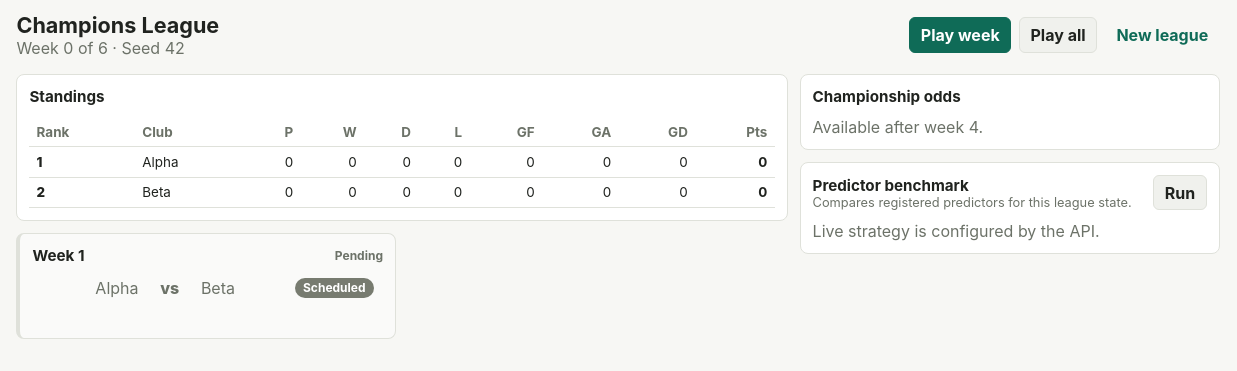
it: league workflow › plays a week, allows a manual correction, and benchmarks predictors for the visible league
Step 1. Click the button "Play week" → coordinates (960, 35), box [910,18,1011,53]
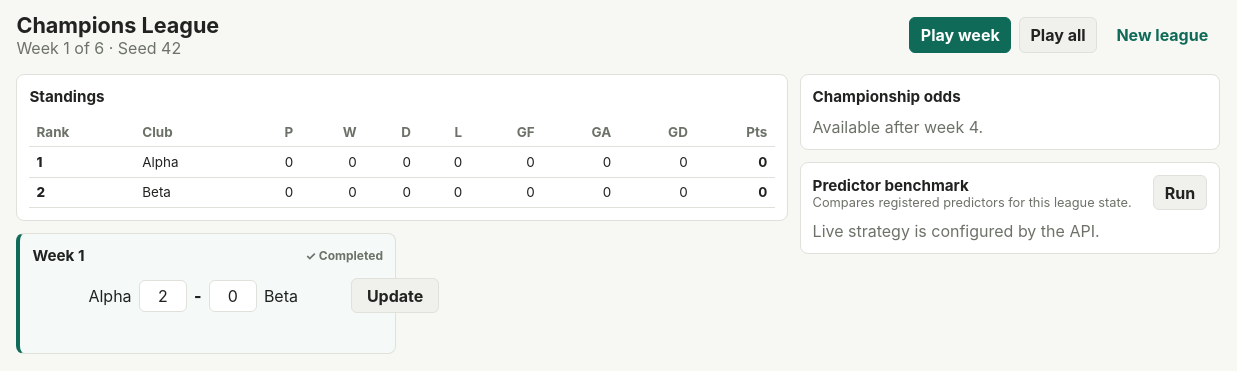
expect the text "Week 1 of 6" is shown: met, box [16,38,181,58]
Step 2. Replace the text in the number field titled "Alpha goals" with "3" → coordinates (163, 296), box [139,280,187,312]
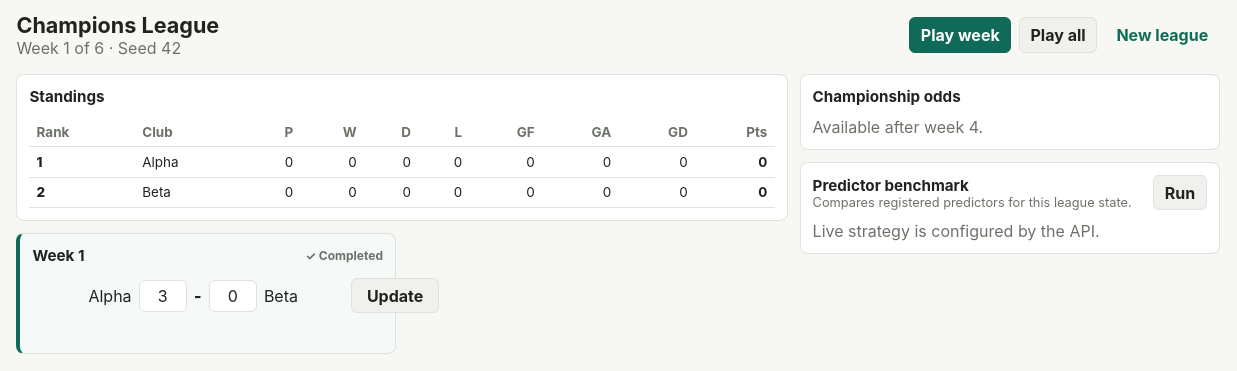
Step 3. Replace the text in the number field titled "Beta goals" with "1" → coordinates (233, 296), box [209,280,257,312]
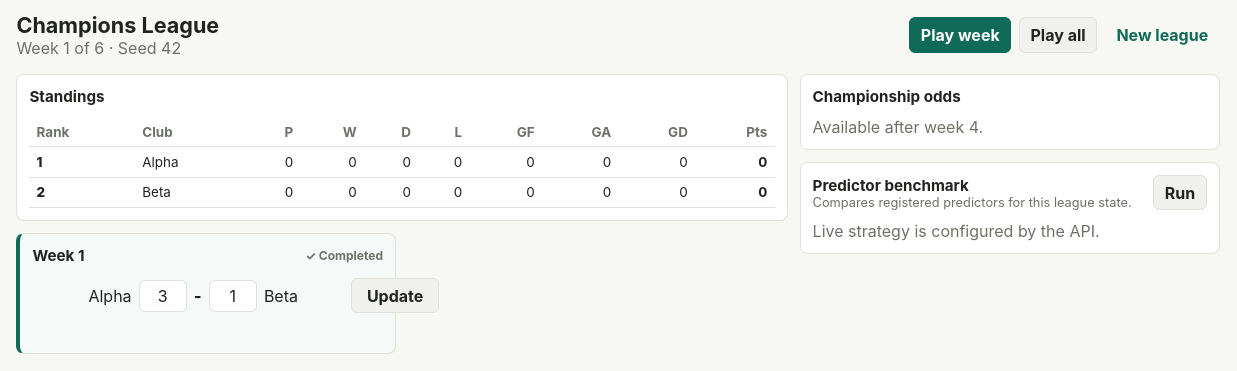
Step 4. Submit the form, box [32,278,439,313]
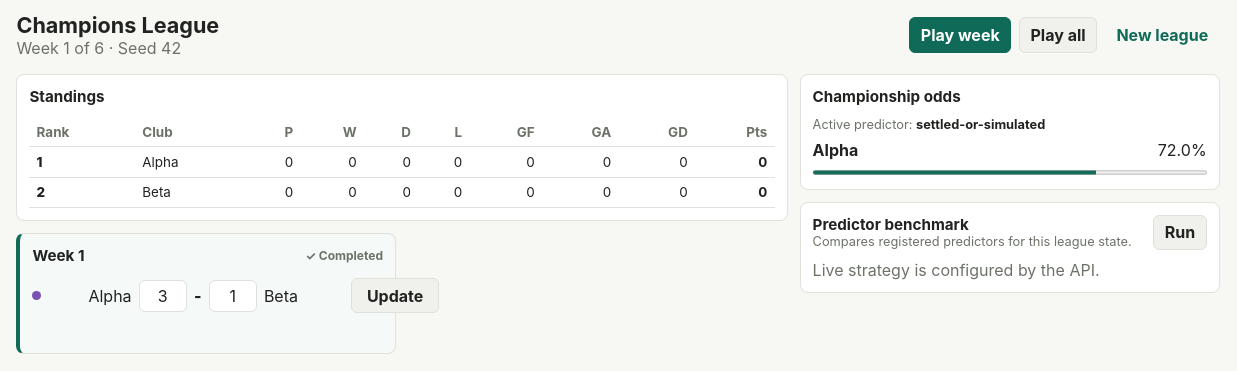
expect the text "72.0%" is shown: met, box [1158,140,1207,160]
Step 5. Click the button "Run" → coordinates (1180, 232), box [1153,215,1207,250]
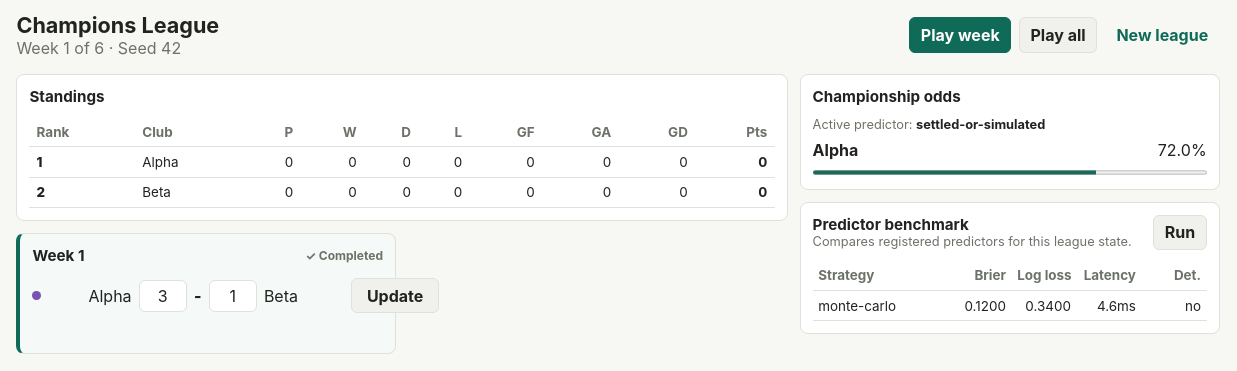
expect the text "monte-carlo" is shown: met, box [813,290,947,321]
expect the text "0.1200" is shown: met, box [946,290,1012,321]
